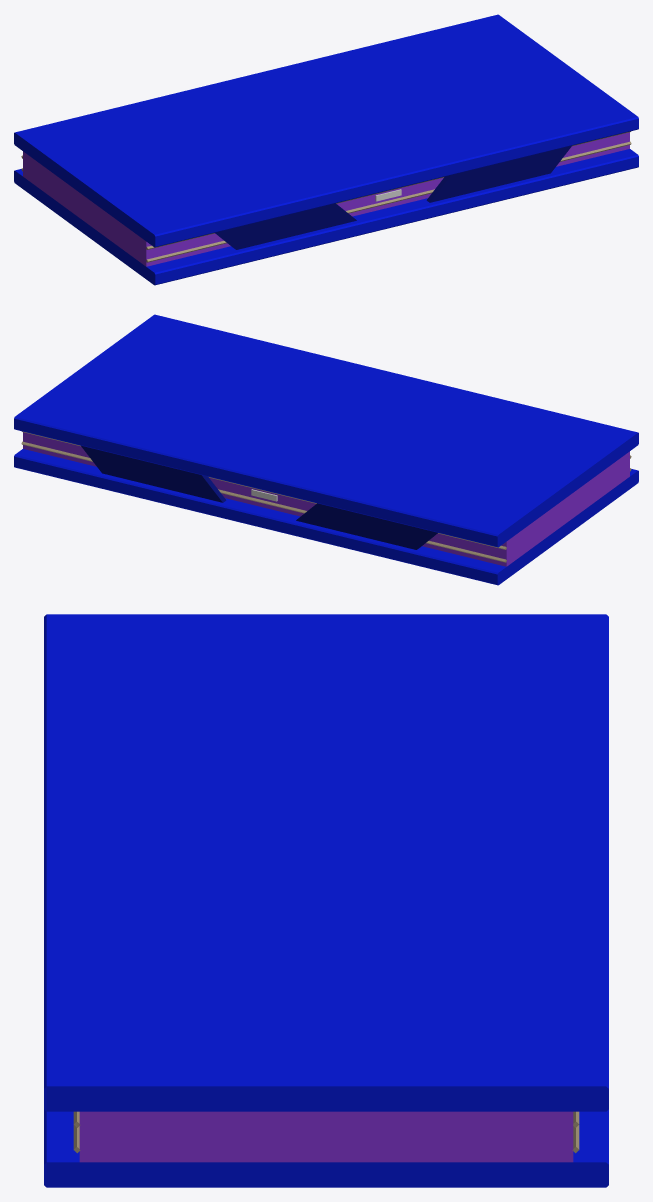
File: BT_Floor_B_01.fbx
The picture shows the model from 3 angles, top to bottom: view 1: azimuth 30°, elevation 25°; view 2: azimuth 150°, elevation 25°; view 3: azimuth 270°, elevation 25°; orthographic projection. The views are drawn at different scales.
Visible parts, largest first — view 1: BT_Floor_B_01; view 2: BT_Floor_B_01; view 3: BT_Floor_B_01.
Part boxes in pixels (x1=…): BT_Floor_B_01: x1=14, y1=14, x2=638, y2=285; BT_Floor_B_01: x1=14, y1=314, x2=638, y2=585; BT_Floor_B_01: x1=44, y1=614, x2=608, y2=1187.
Size of the model in its own units: 400 by 40 by 202.
